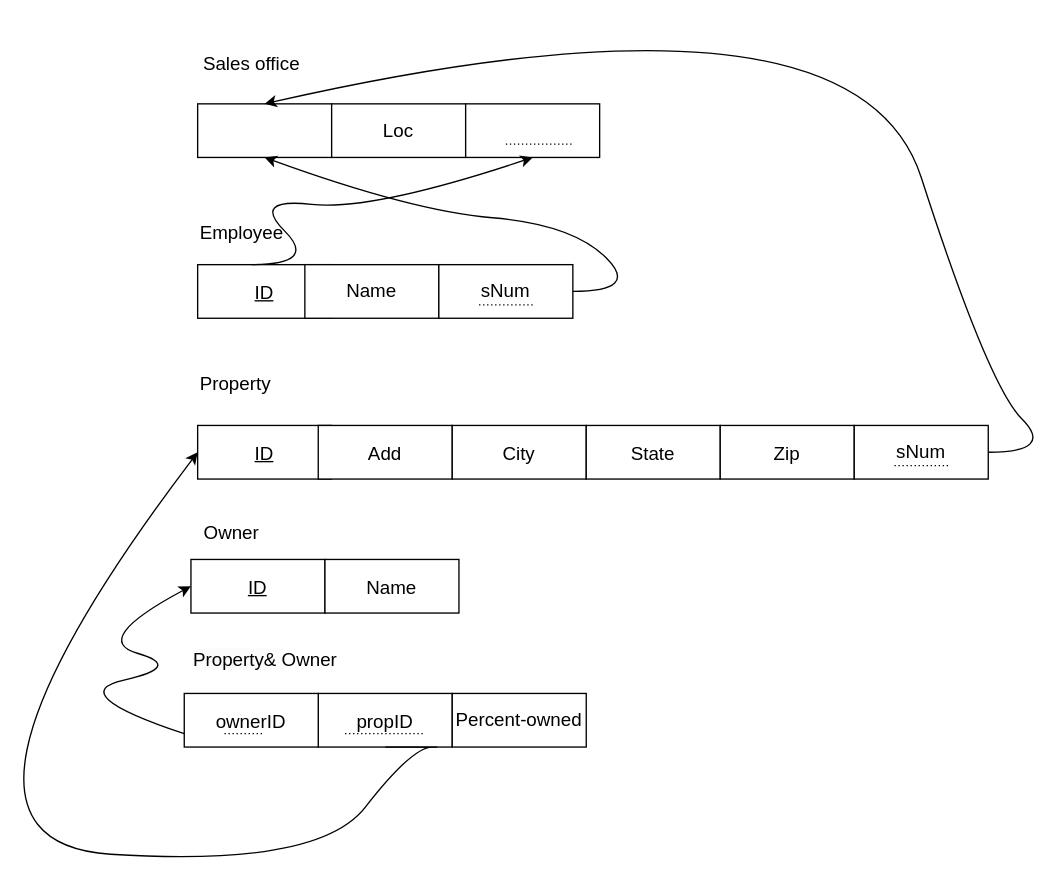
This 1057x880 diagram has some shape labels left out. Here are the shapes that lost their labels. From the top down, the box of each, then its label:
(196, 103, 332, 157): NUM
(464, 103, 600, 157): empID
